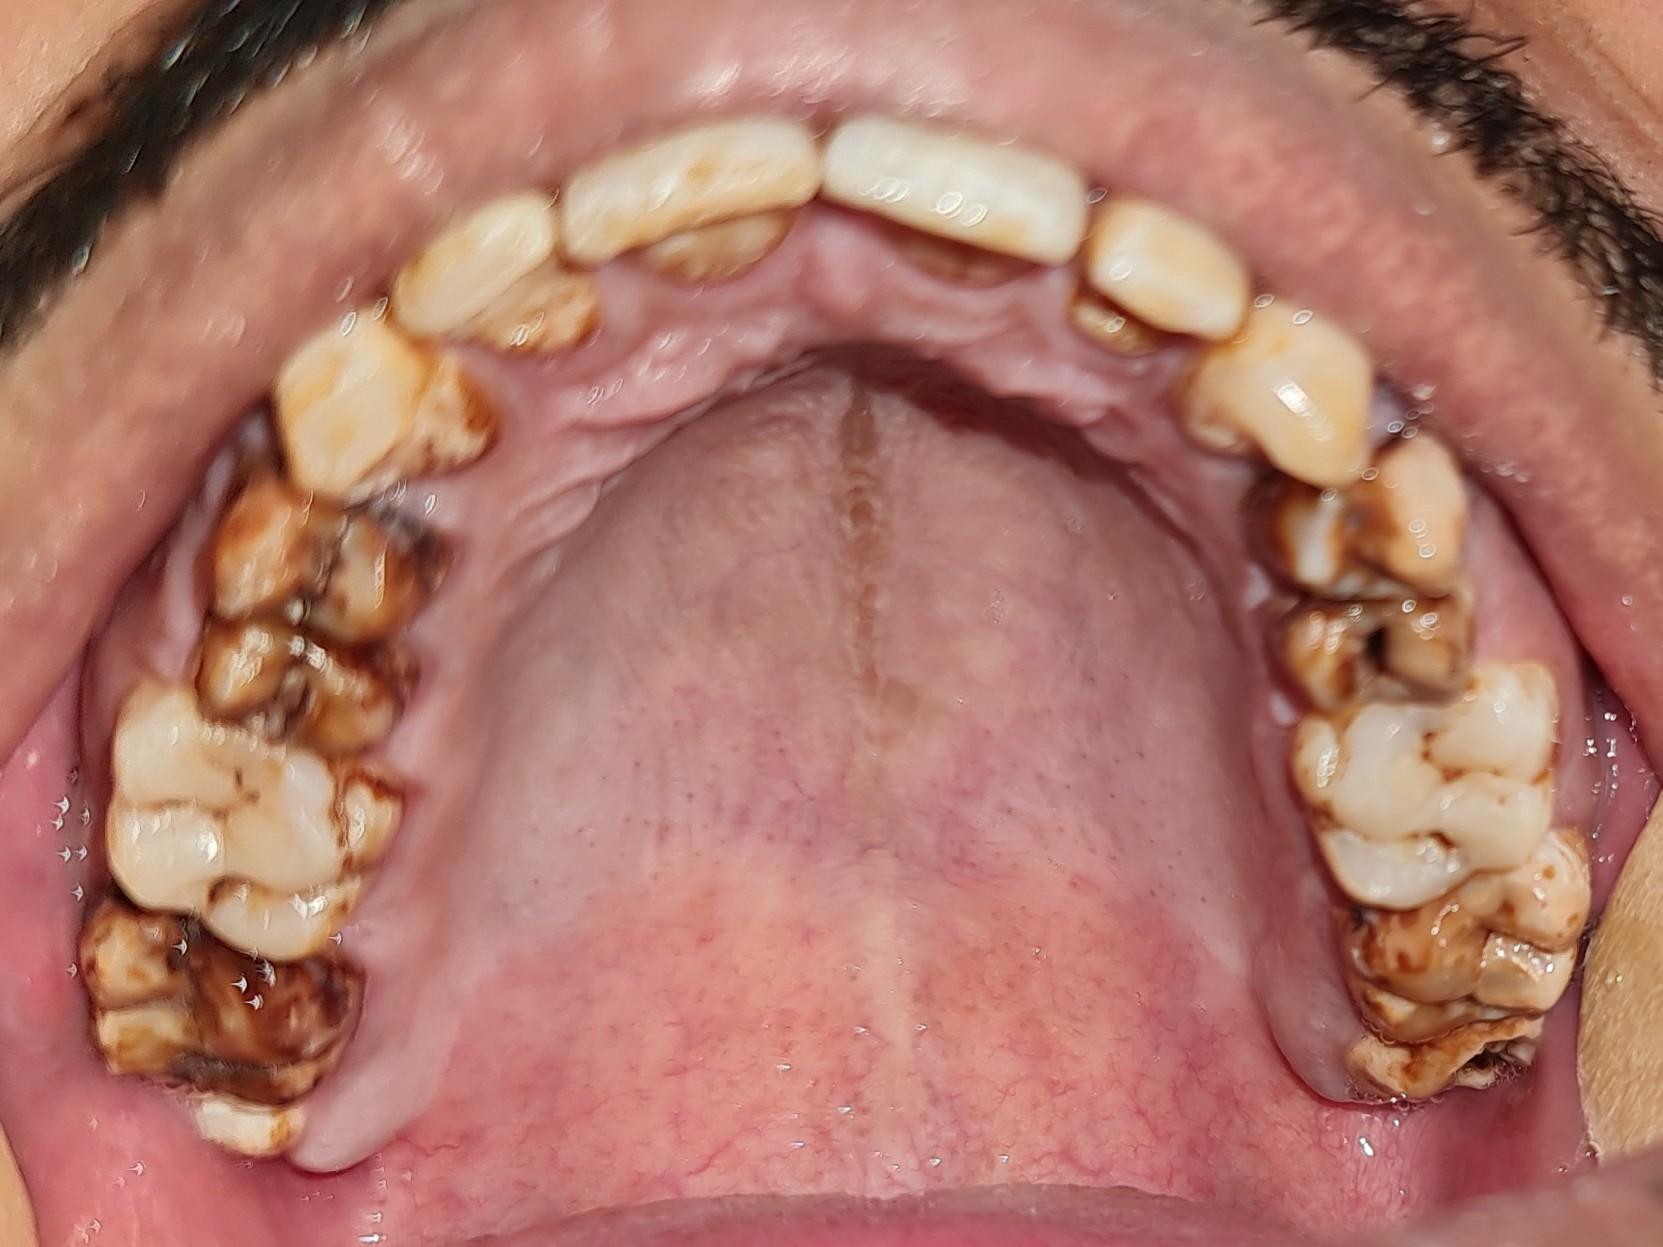D: (42, 889, 368, 1103), (1314, 847, 1600, 1044), (180, 469, 451, 646), (155, 596, 417, 759), (1240, 600, 1511, 712), (1327, 1012, 1581, 1119)
